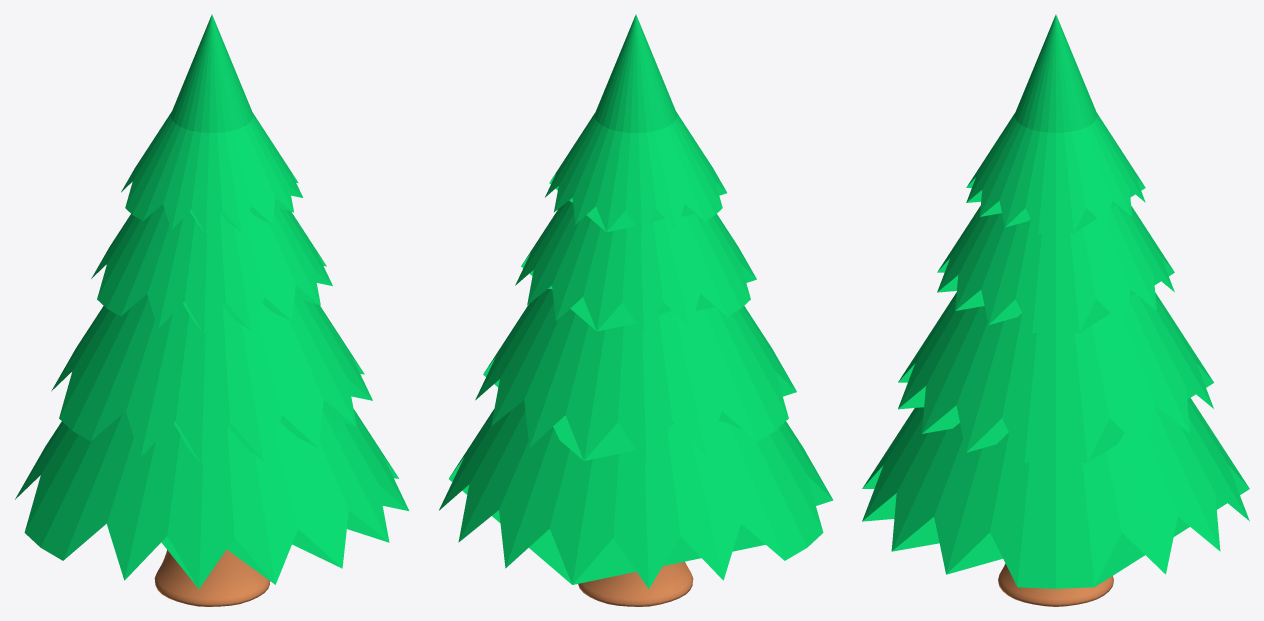
Rendered from PointTree.fbx.
3 views of the same model, side by side, from view 1: azimuth 30°, elevation 25°; view 2: azimuth 150°, elevation 25°; view 3: azimuth 270°, elevation 25° (orthographic).
Visible parts, largest first — view 1: Trunk; view 2: Trunk; view 3: Trunk.
Part boxes in pixels (x1,y1,x2,y2): Trunk: (15,14,408,606); Trunk: (439,14,833,606); Trunk: (862,14,1249,606).
Size of the model in its own units: 255 by 406 by 250.
